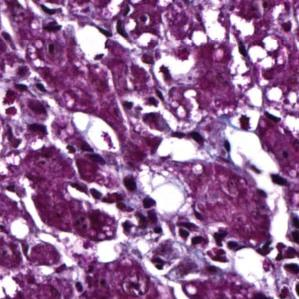ballooning: (134, 161, 196, 218)
